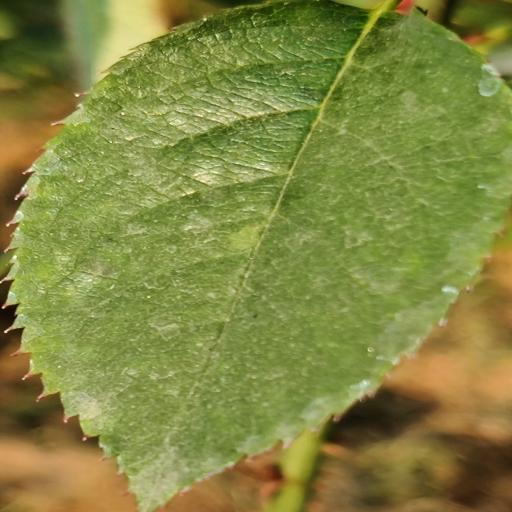healthy_leaf: (9, 0, 512, 512)
